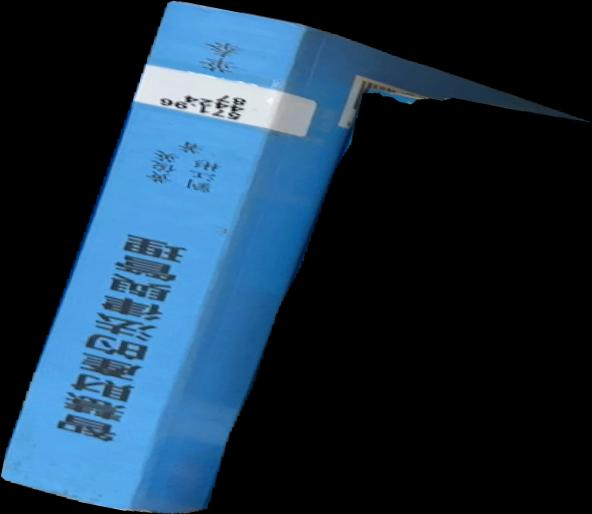reverse: (1, 1, 592, 514)
